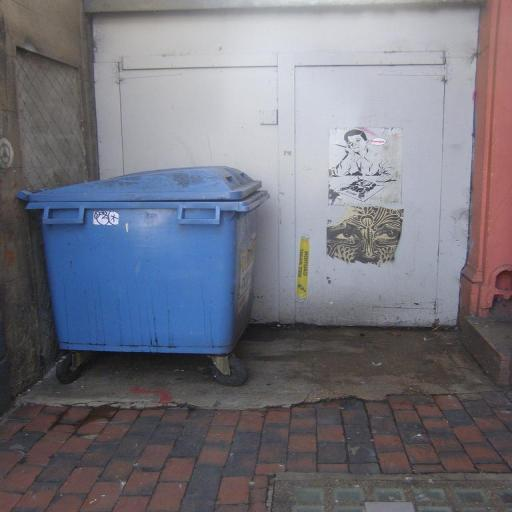trash-can: (16, 149, 266, 385)
